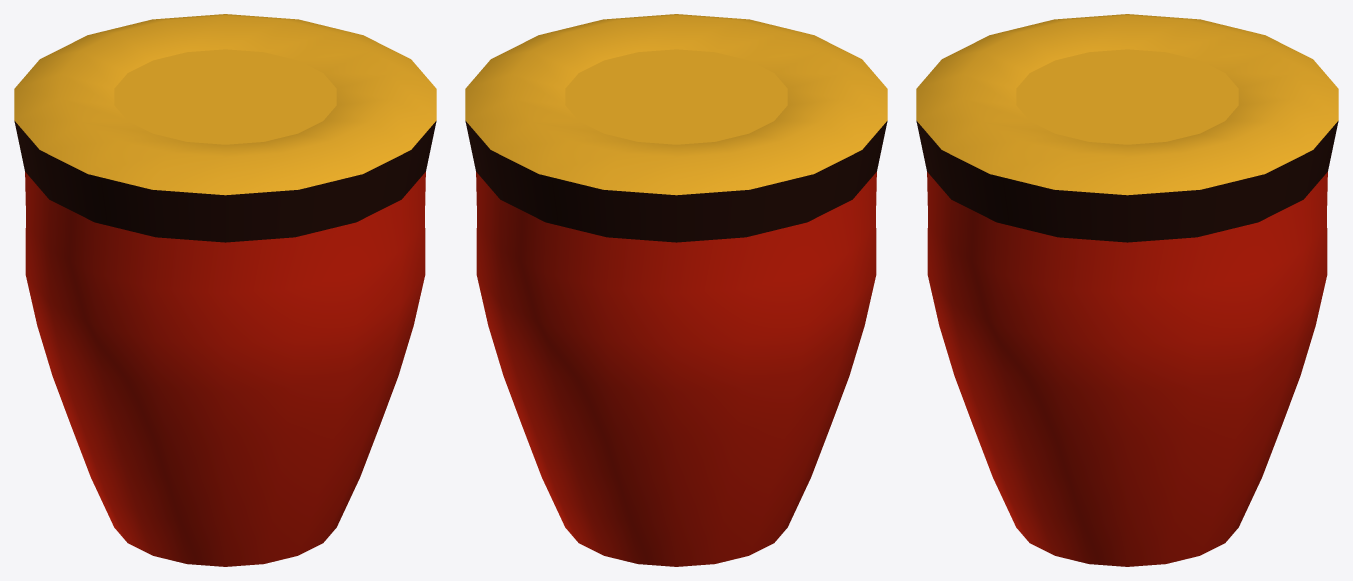
The model's file is tamtam.FBX.
3 renders of one model, left to right at view 1: azimuth 30°, elevation 25°; view 2: azimuth 150°, elevation 25°; view 3: azimuth 270°, elevation 25°, orthographic.
Parts seen in each view (by area): view 1: base, peau, basepeau; view 2: base, peau, basepeau; view 3: base, peau, basepeau.
Boxes of the visible parts, bbox=[...] form: base: bbox=[25, 172, 425, 566]; peau: bbox=[14, 14, 436, 195]; basepeau: bbox=[14, 121, 436, 242]; base: bbox=[476, 172, 876, 566]; peau: bbox=[465, 14, 887, 195]; basepeau: bbox=[465, 121, 887, 242]; base: bbox=[927, 172, 1327, 566]; peau: bbox=[916, 14, 1338, 195]; basepeau: bbox=[916, 121, 1338, 242].
Size of the model in its own units: 5.86 by 6.52 by 5.77.
